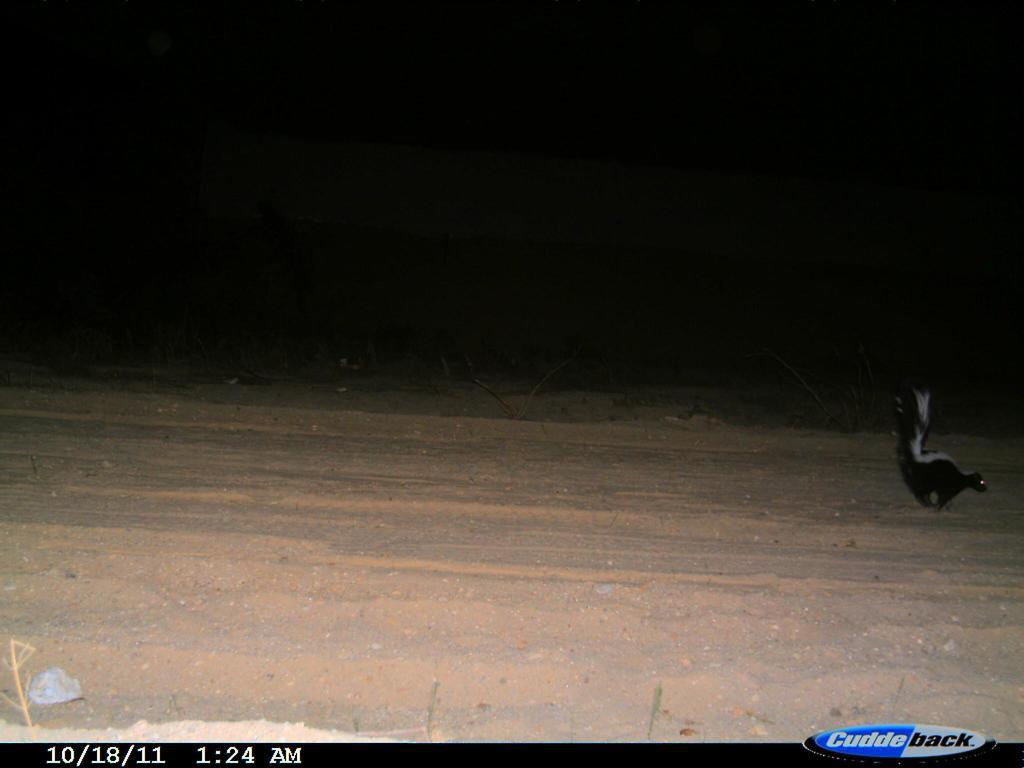skunk: (876, 368, 1006, 538)
